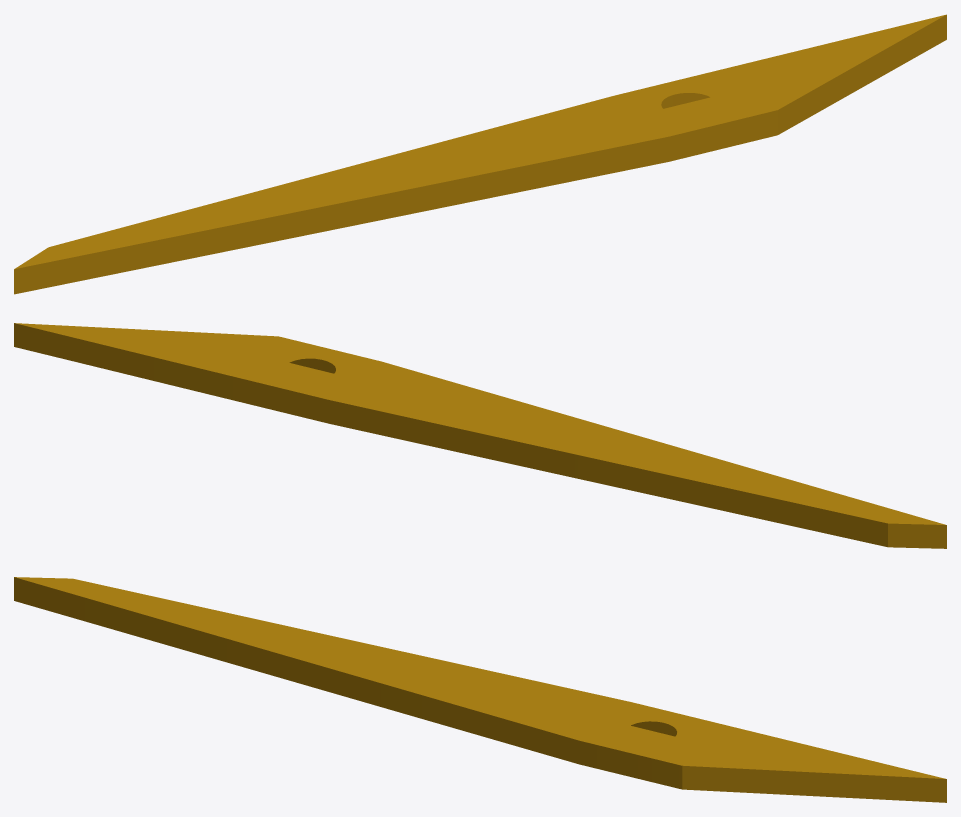
Rendered from original-5.obj.
The picture shows the model from 3 angles, top to bottom: view 1: azimuth 30°, elevation 25°; view 2: azimuth 150°, elevation 25°; view 3: azimuth 330°, elevation 25°; orthographic projection. The views are drawn at different scales.
Visible parts, largest first — view 1: #ID76; view 2: #ID76; view 3: #ID76.
Part boxes in pixels (<box>): #ID76: <box>14,14,946,294</box>; #ID76: <box>14,323,946,548</box>; #ID76: <box>14,577,946,802</box>.
Bounding box in the file's own units: 0.9772 × 0.0245 × 0.0981.
